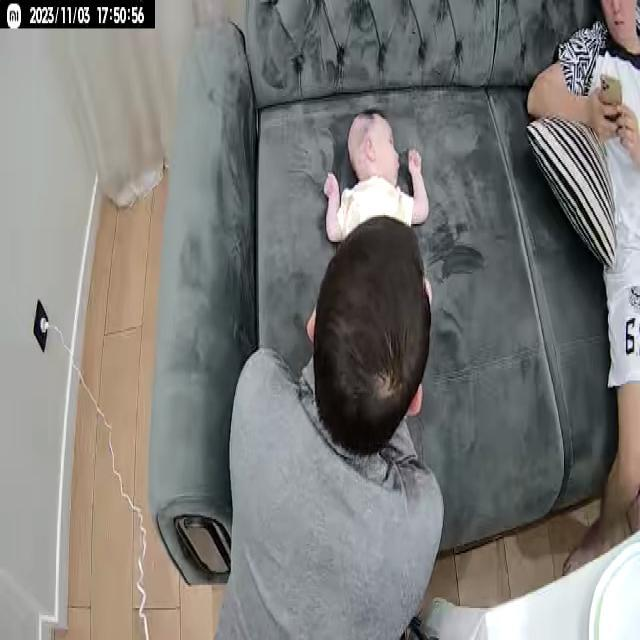baby: (318, 106, 434, 310)
